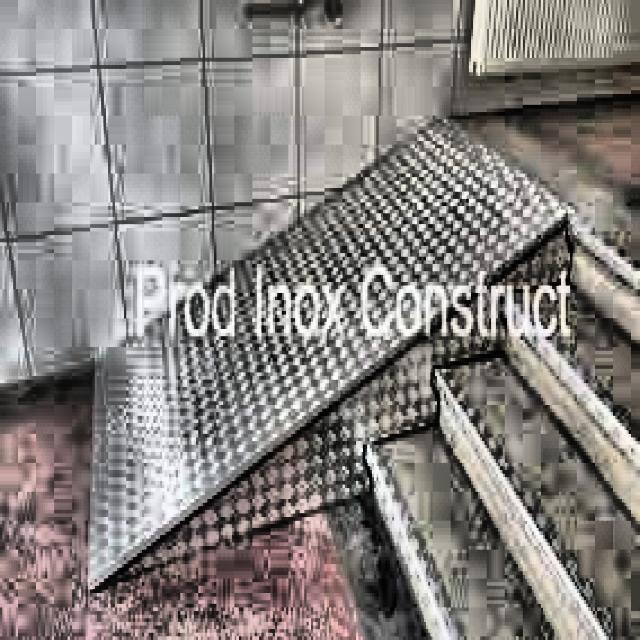escada: (369, 195, 640, 639)
